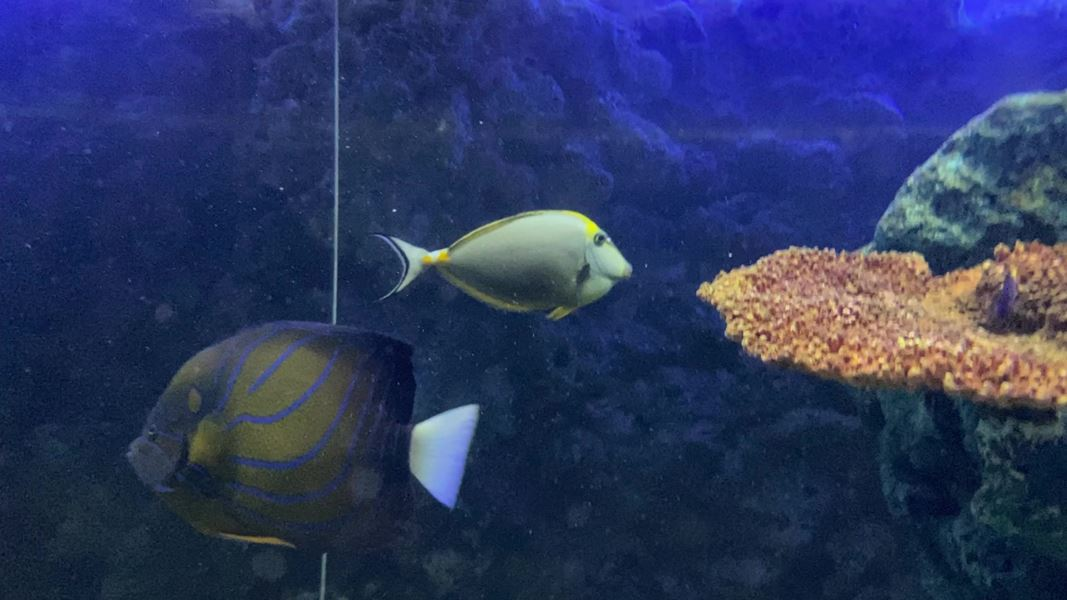Blue ring angelfish: (126, 319, 486, 586)
